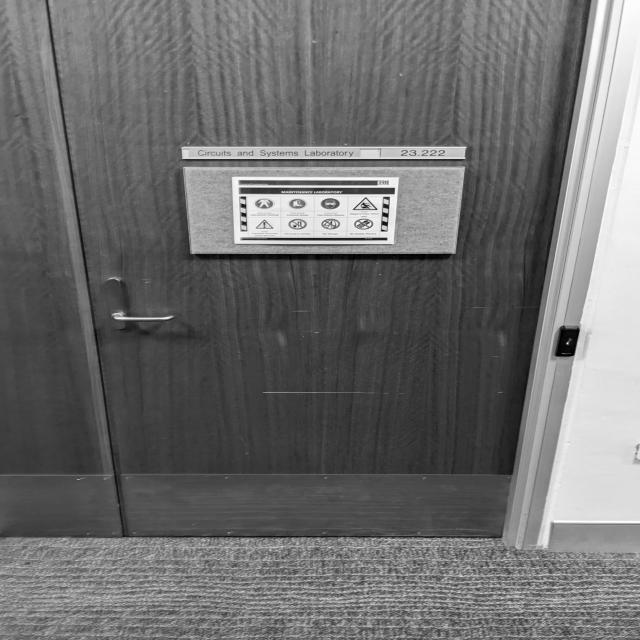doorhandle: (41, 0, 598, 539), (105, 301, 192, 337)
